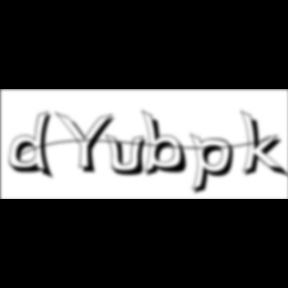Y: (55, 110, 122, 176)
b: (142, 109, 195, 179)
d: (9, 110, 59, 182)
p: (190, 132, 240, 198)
u: (105, 132, 153, 178)
